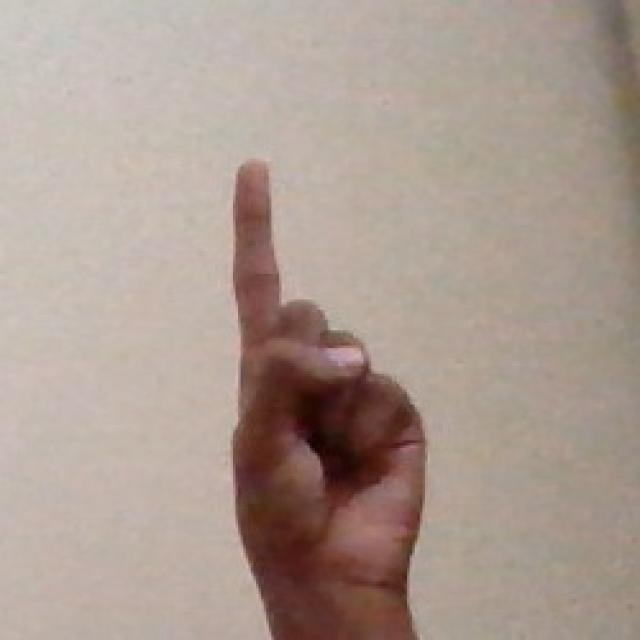Numeric-1: (232, 155, 432, 631)
